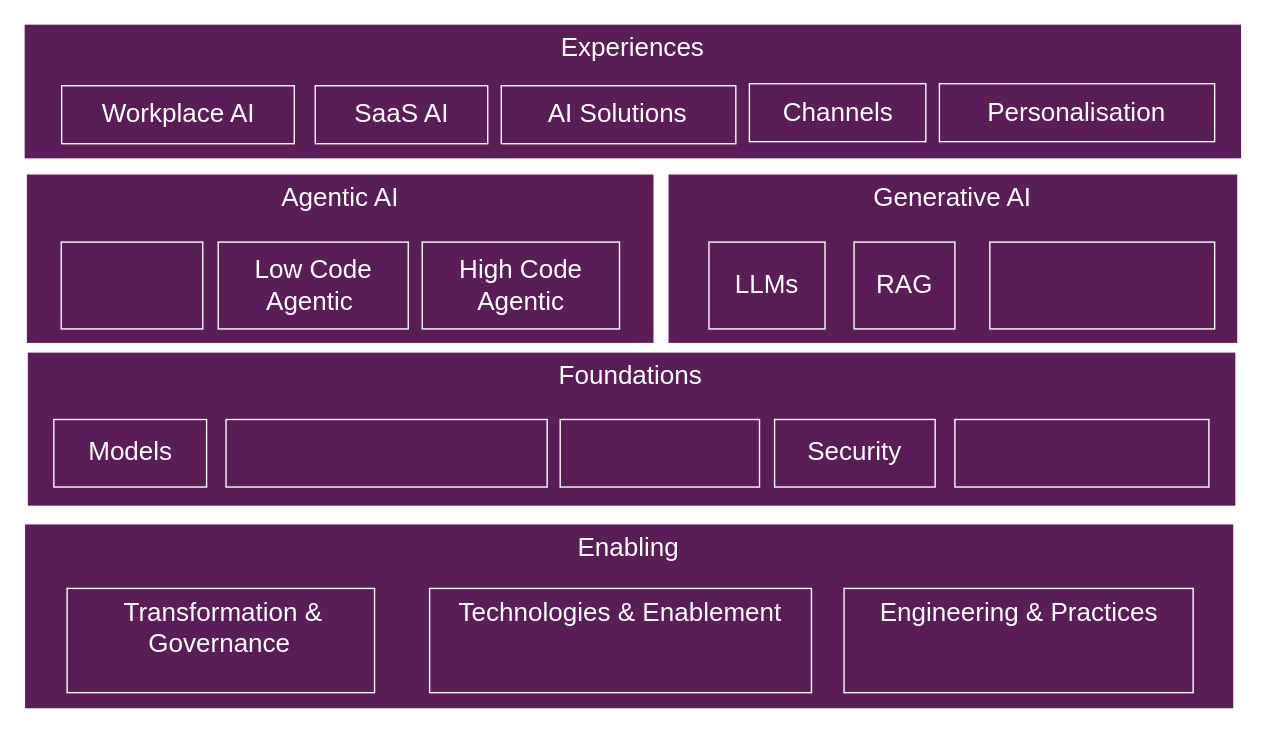
The diagram is 1266 pixels wide and 733 high, and some of its shapes have lost their labels. Each missing label, with the centre of its shape:
Agents: point 131,285
Content Analysis and Generation: point 1101,285
Data & Knowledge: point 386,452
Infrastructure: point 1081,452
Integration: point 659,452
